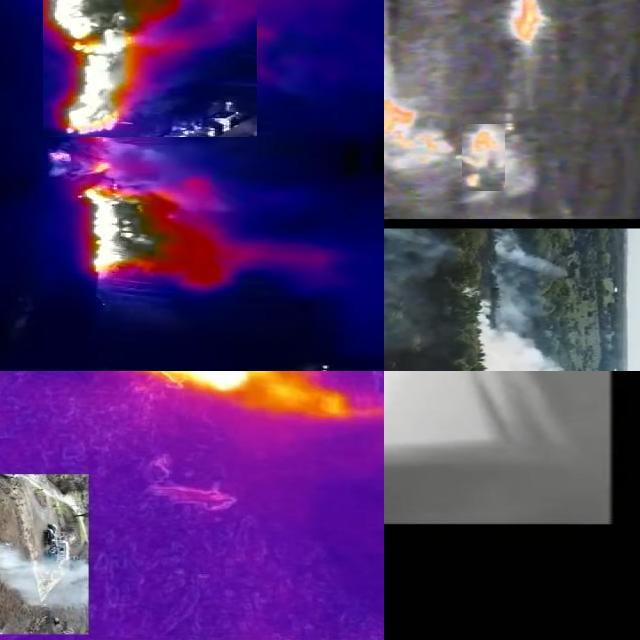fire: (44, 1, 258, 137), (72, 139, 256, 295), (385, 8, 444, 162), (119, 372, 295, 396), (463, 124, 506, 191), (492, 1, 552, 42)
